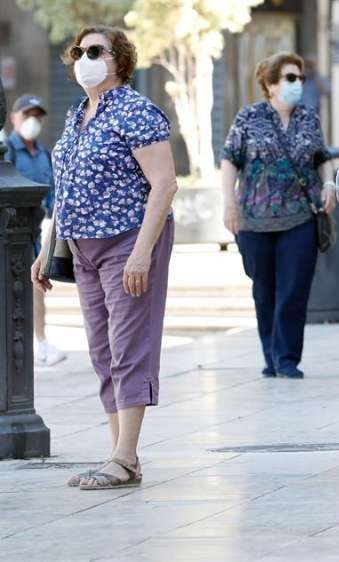with_mask: (66, 33, 132, 93), (259, 51, 312, 110), (9, 96, 49, 144)
